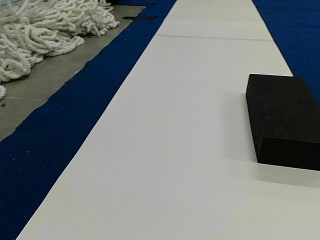block: (247, 73, 319, 170)
